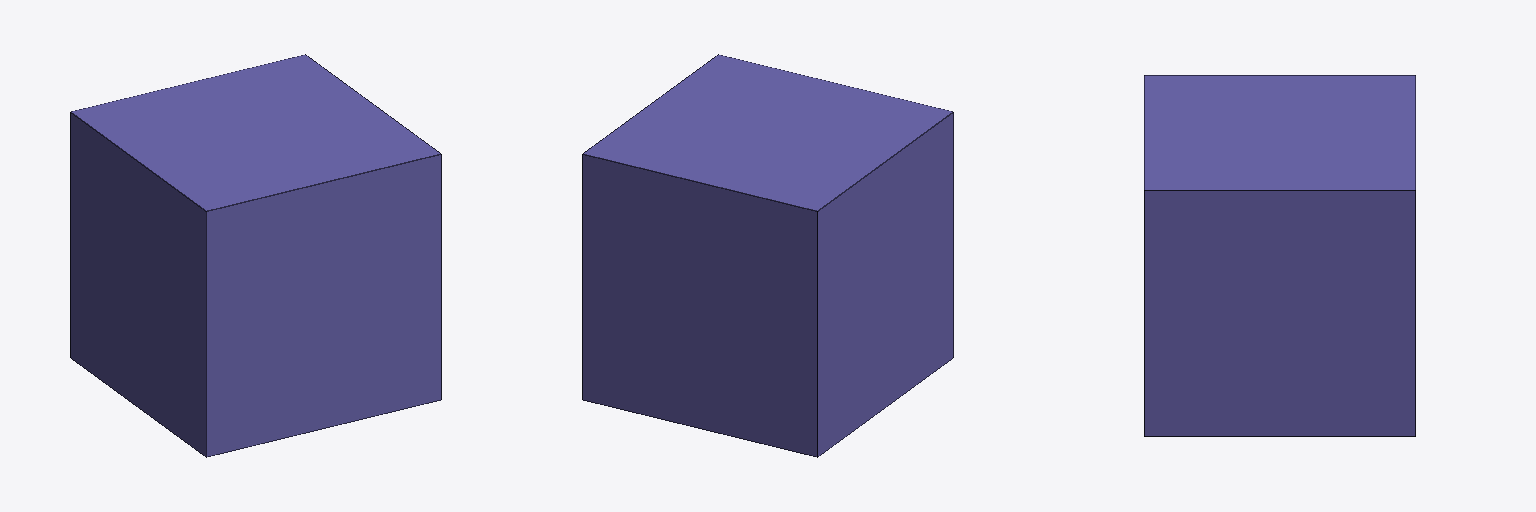
3 renders of one model, left to right at view 1: azimuth 30°, elevation 25°; view 2: azimuth 150°, elevation 25°; view 3: azimuth 270°, elevation 25°, orthographic.
Visible parts, largest first — view 1: 立方体; view 2: 立方体; view 3: 立方体.
Boxes of the visible parts, x1=… form: 立方体: x1=70, y1=54, x2=441, y2=457; 立方体: x1=582, y1=54, x2=953, y2=457; 立方体: x1=1144, y1=75, x2=1415, y2=436.
Size of the model in its own units: 2 by 2 by 2.
1 materials, 1 textured.